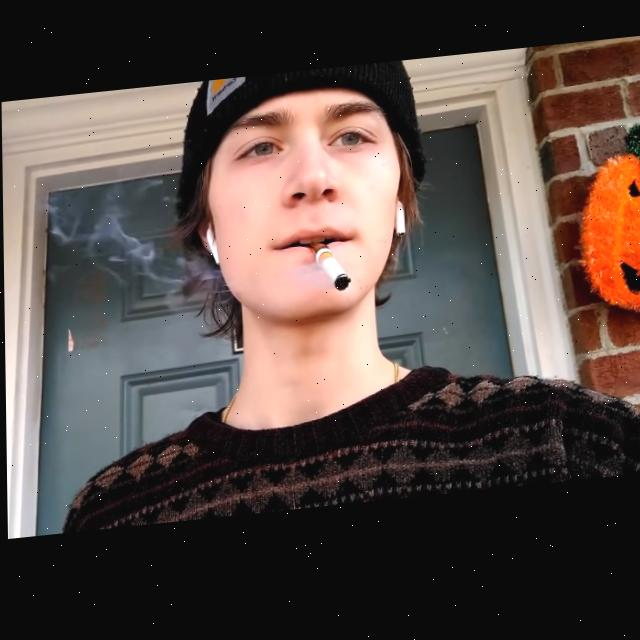cigarette: (318, 257, 353, 301)
